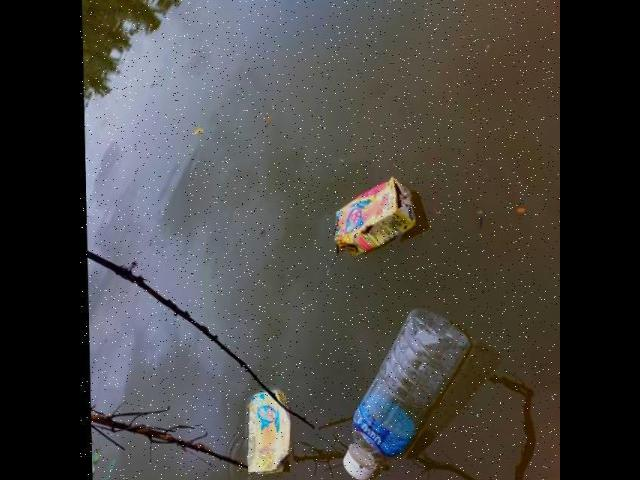Bottle: (341, 299, 476, 480)
Box: (328, 172, 425, 261), (243, 380, 298, 480)
